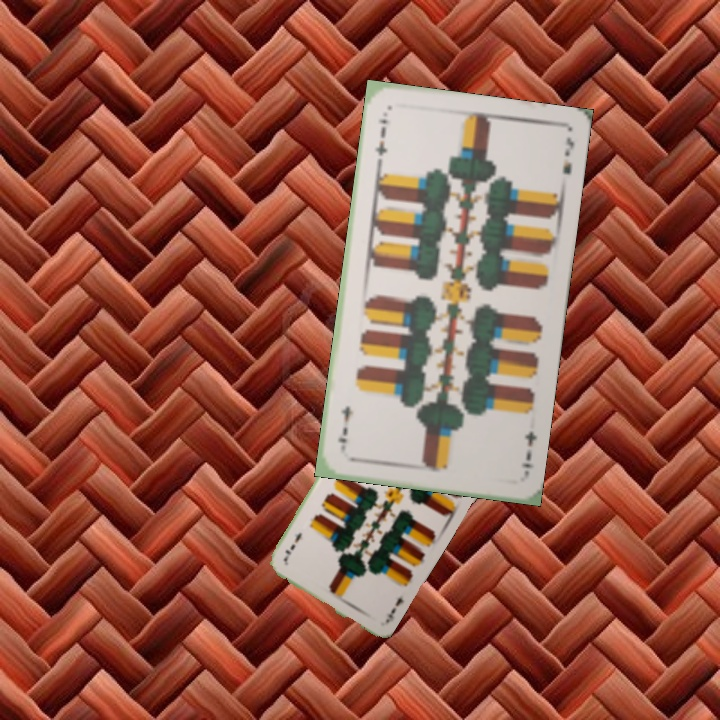E7: (371, 115, 392, 166), (517, 427, 539, 471), (382, 593, 407, 626)
